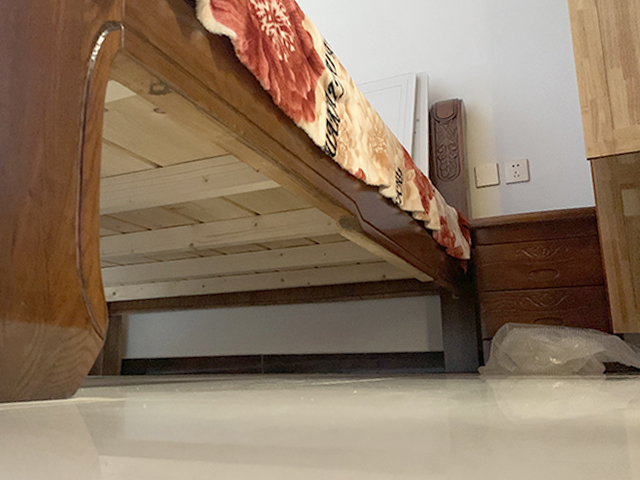bed: (1, 1, 482, 403)
cabinet: (465, 206, 616, 373)
